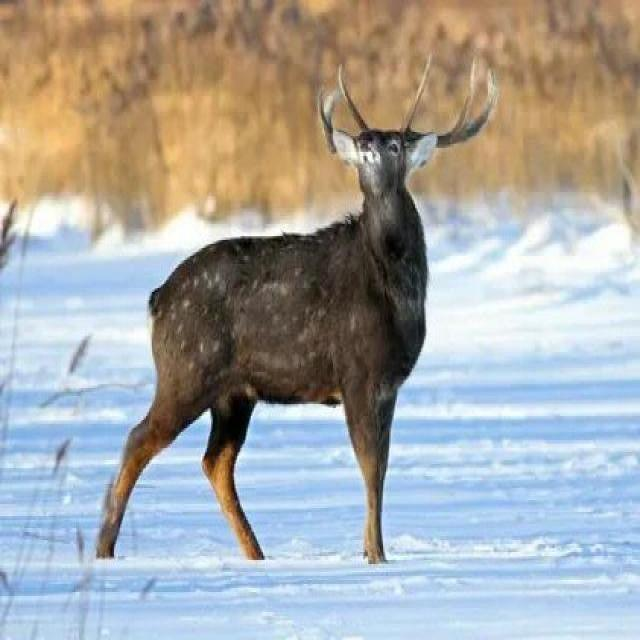deer: (104, 79, 530, 626)
